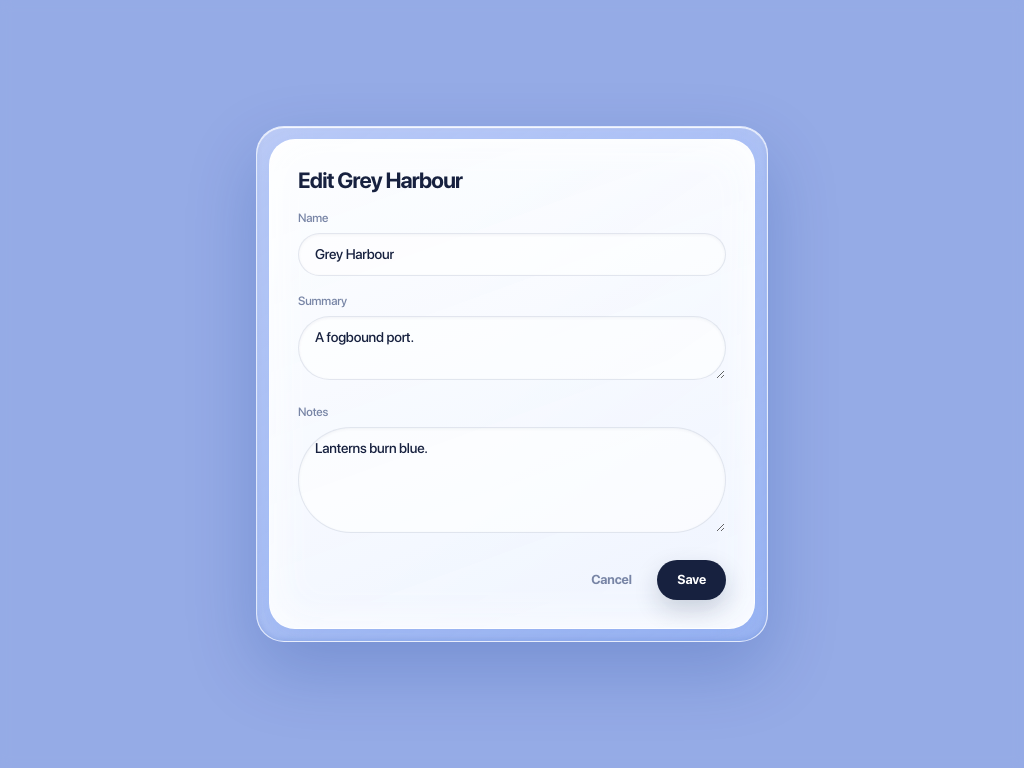
Test: an empty name is refused before it reaches the server
The image size is (1024, 768).
Clear the field labelled "Name". click: {"x": 512, "y": 254}
box: [298,233,726,276]
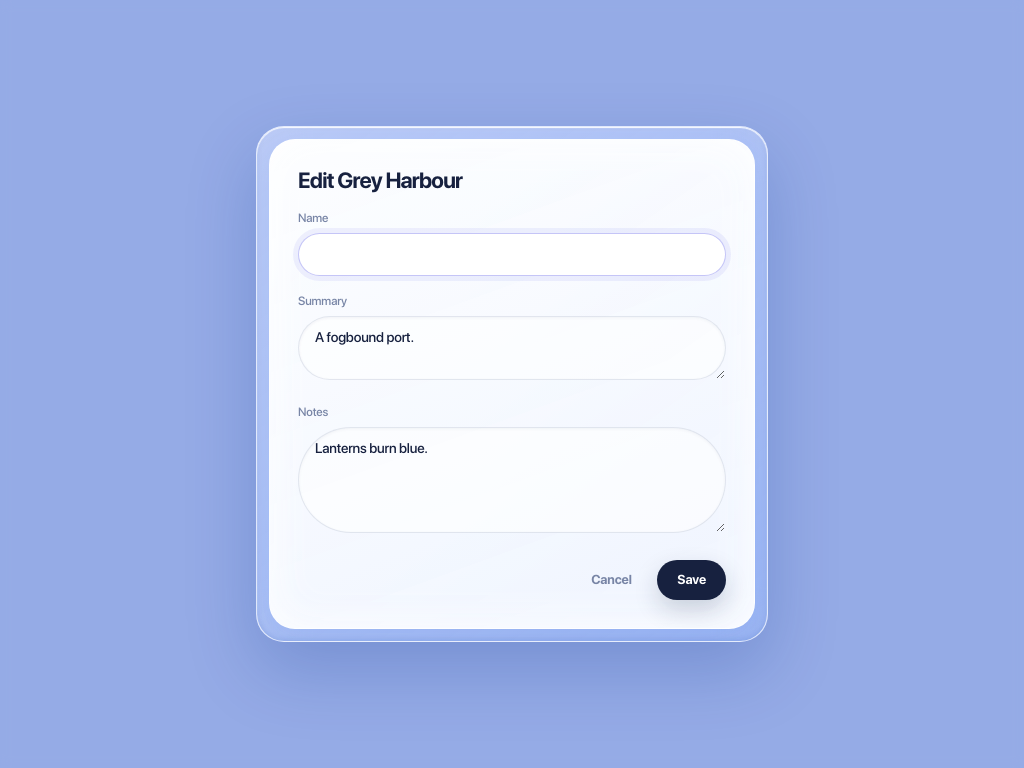
Click the button "Save". click: {"x": 692, "y": 580}
box: [657,560,726,600]
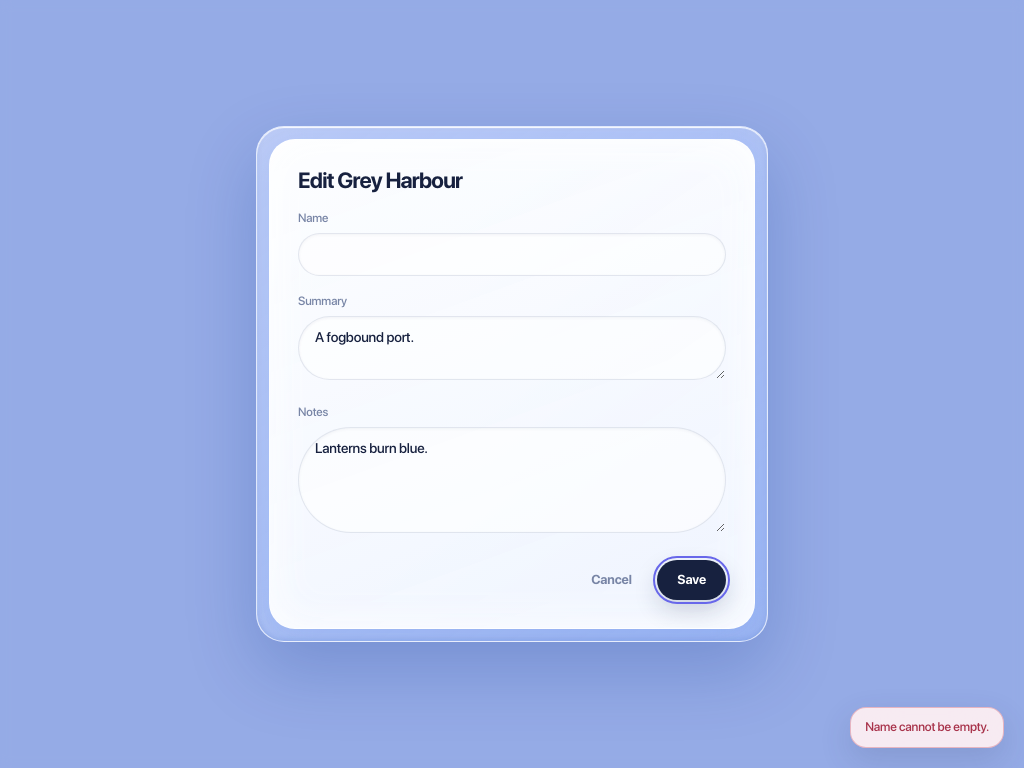
Check: the text "Name cannot be empty." is shown, box [850,707,1004,748]
